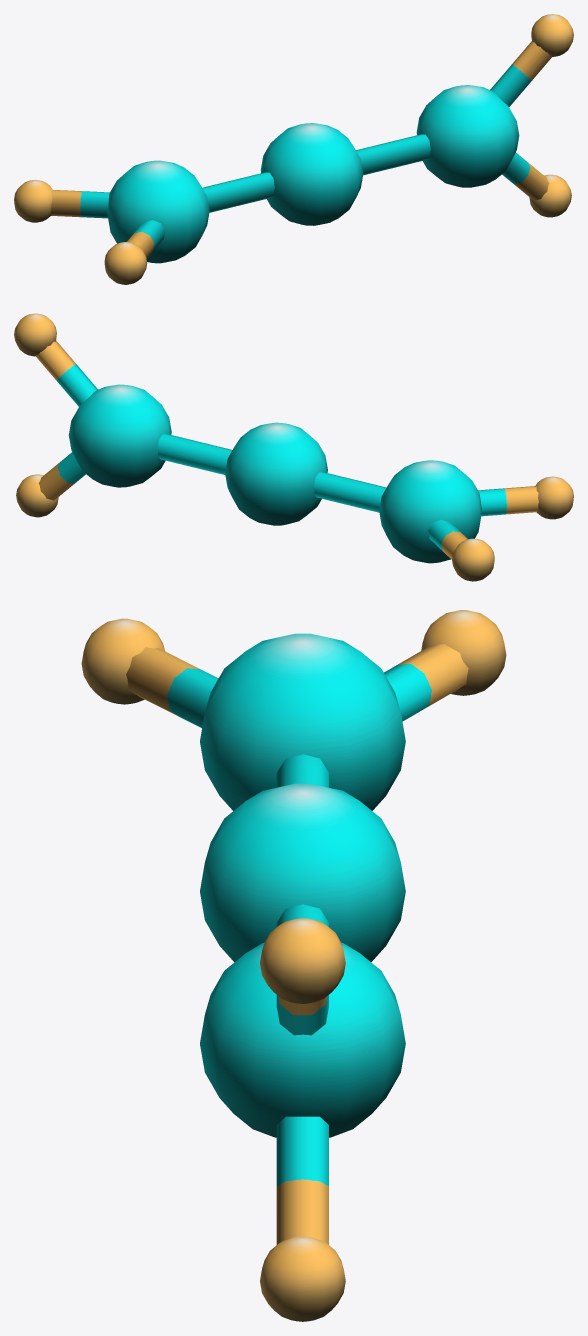
Rendered from Allene.dae.
3 renders of one model, top to bottom at view 1: azimuth 30°, elevation 25°; view 2: azimuth 150°, elevation 25°; view 3: azimuth 270°, elevation 25°, orthographic. The views are drawn at different scales.
Visible parts, largest first — view 1: polySurface2; view 2: polySurface2; view 3: polySurface2.
Boxes of the visible parts, <box> form: polySurface2: <box>14,14,573,284</box>; polySurface2: <box>14,313,573,581</box>; polySurface2: <box>81,610,506,1321</box>.
Size of the model in its own units: 3.93 by 1.46 by 1.41.
Materials: 1 (1 with a texture image).
